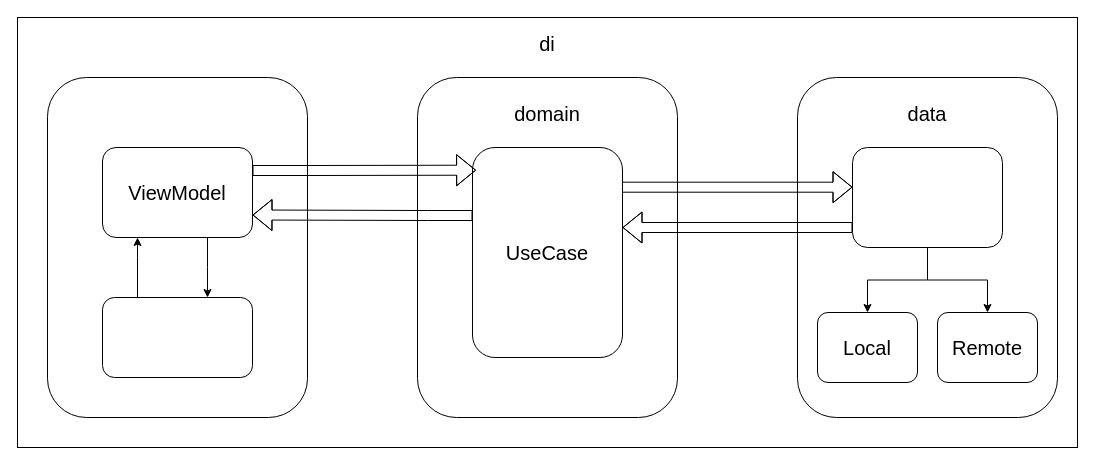
Image size: 1095x465. Some labels were removed from this diagram. Here are the shapes that lost their labels. From the top down, the box of each, then its label:
(852, 146, 1002, 248): Repository
(46, 76, 308, 418): ui
(102, 296, 252, 378): View
